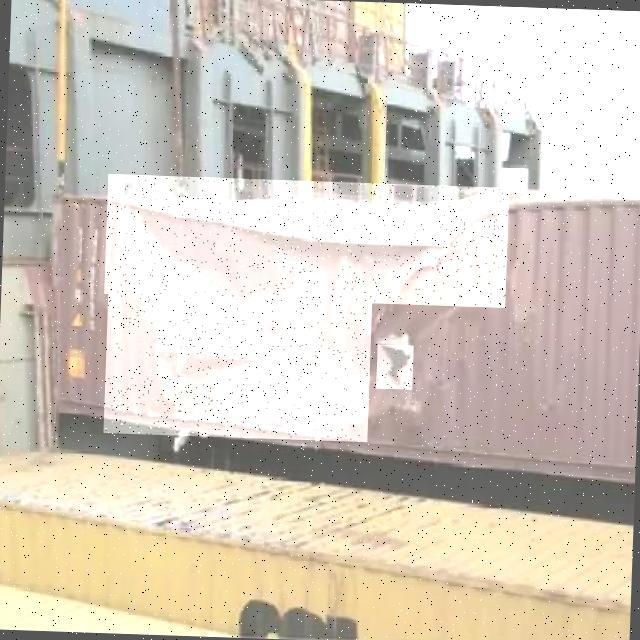Deframe: (105, 174, 508, 304)
Dent: (103, 293, 372, 442)
Hole: (376, 344, 413, 389)
